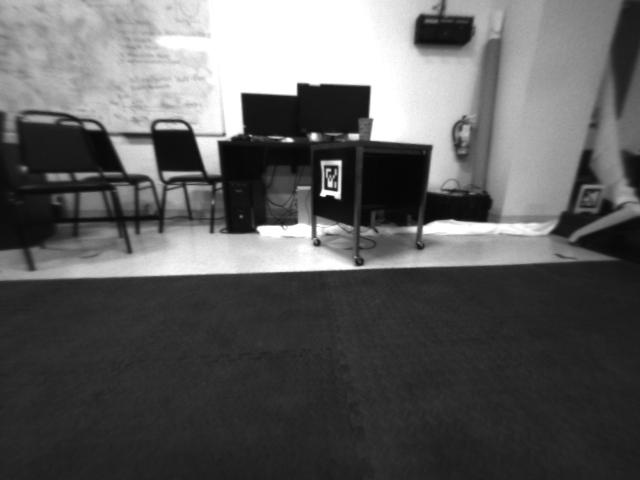coffee_cup: (355, 116, 376, 141)
